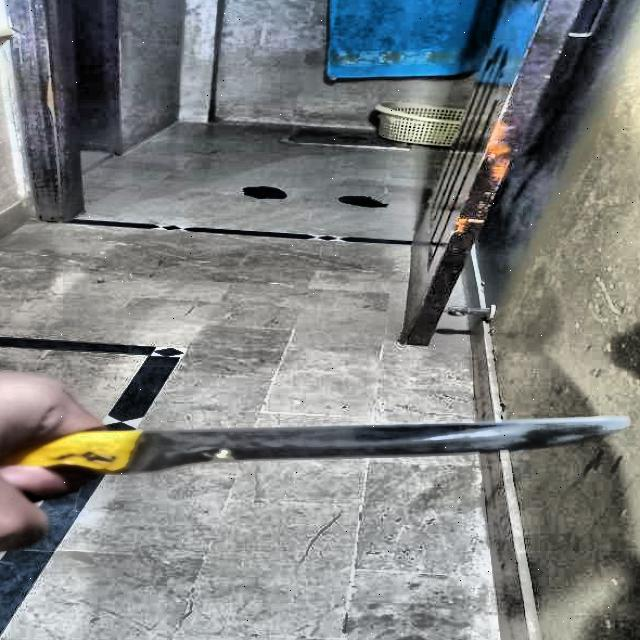knife: (4, 416, 628, 476)
